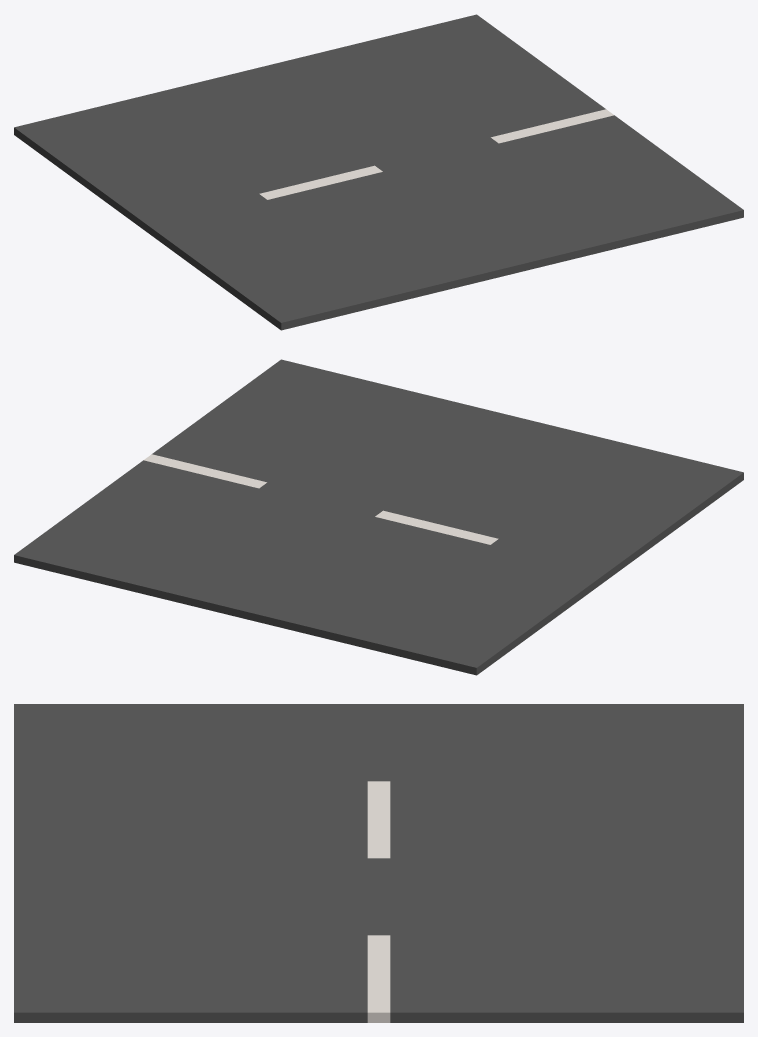
The model's file is MapV3-87.obj.
3 renders of one model, top to bottom at view 1: azimuth 30°, elevation 25°; view 2: azimuth 150°, elevation 25°; view 3: azimuth 270°, elevation 25°, orthographic. The views are drawn at different scales.
Bounding box in the file's own units: 6.4 × 0.1 × 6.4.
1 material, 1 textured.
